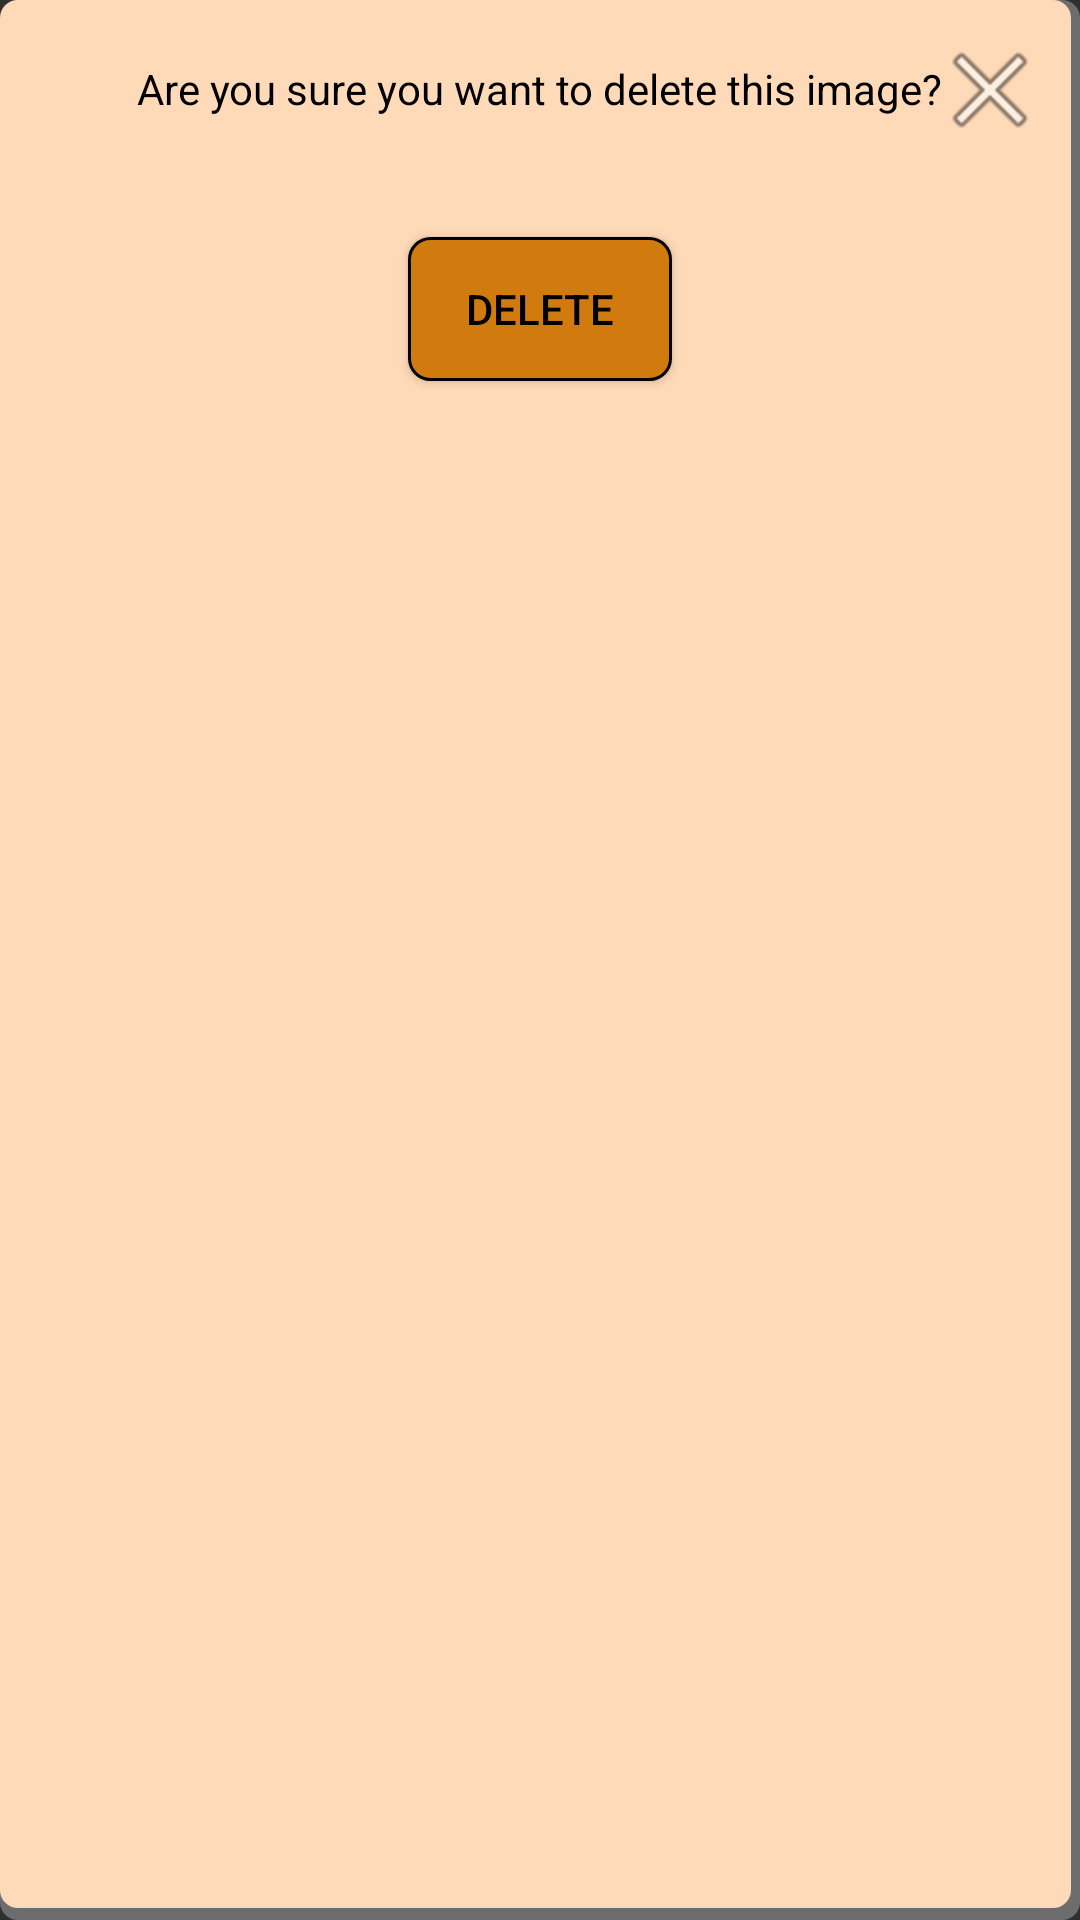

Icon click points for this 1080 × 1920 phone screenshot, format (x=x, y=y):
close clear cancel: (x=979, y=90)
